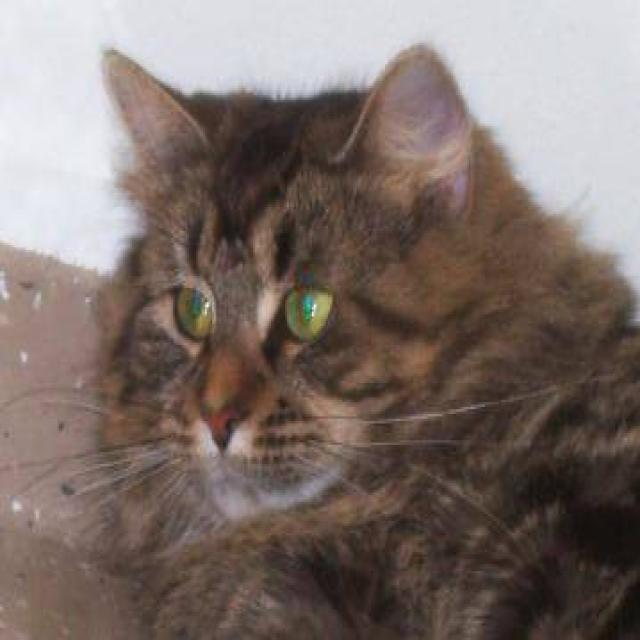cat: (0, 38, 638, 638)
